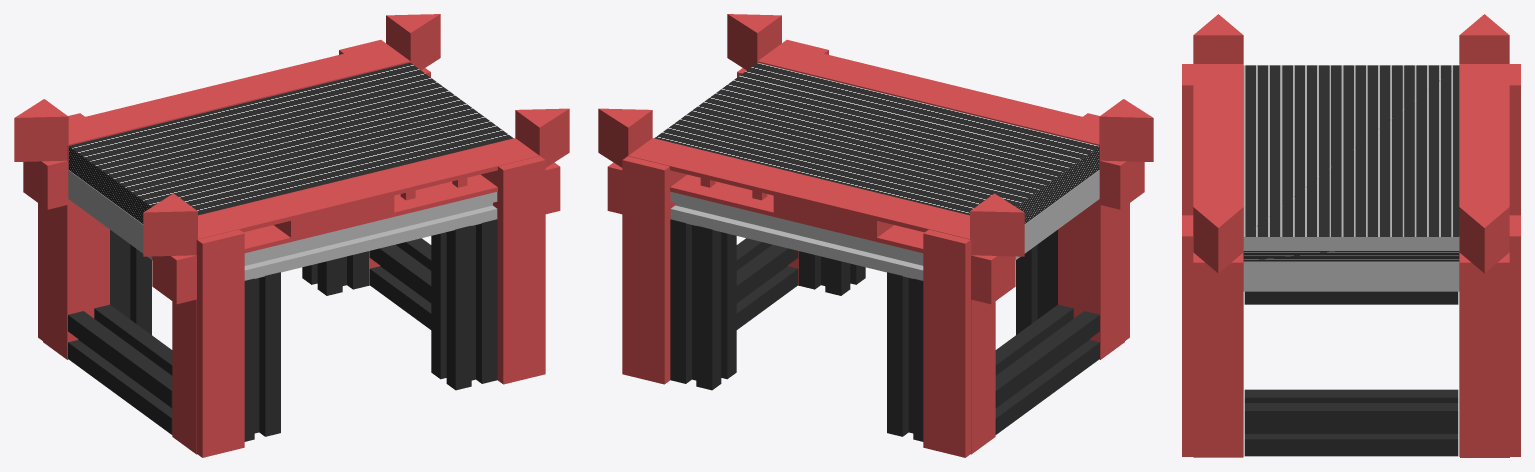
The model's file is Conveyor_Belt.glb.
3 renders of one model, left to right at view 1: azimuth 30°, elevation 25°; view 2: azimuth 150°, elevation 25°; view 3: azimuth 270°, elevation 25°, orthographic. The views are drawn at different scales.
Visible parts, largest first — view 1: Belt, Cube.013, Cube.014, Cube.015, Cube.021, Cube.002, Cube.001, Cube.023, Cube.016, Cube.011, Cube.022, Cube.007 (+12 smaller); view 2: Belt, Cube.012, Cube.011, Cube.018, Cube.021, Cube.001, Cube.002, Cube.023, Cube.017, Cube.014, Cube.022, Cube.008 (+12 smaller); view 3: Belt, Cube.022, Cube.009, Cube.010, Cube.002, Cube.001, Cube.021, Cube.013, Cube.023, Cube.012, Triangle, Triangle.001 (+6 smaller).
Part boxes in pixels (x1,y1,x2,y2): Belt: (68,62,513,223); Cube.013: (481,156,545,384); Cube.014: (196,229,244,457); Cube.015: (431,219,497,390); Cube.021: (68,170,497,280); Cube.002: (196,138,539,243); Cube.001: (67,43,410,148); Cube.023: (68,304,172,434); Cube.016: (244,272,280,441); Cube.011: (38,113,109,342); Cube.022: (369,238,431,329); Cube.007: (43,160,67,359); Belt: (654,62,1099,223); Cube.012: (622,156,686,384); Cube.011: (923,229,971,457); Cube.018: (670,219,736,390); Cube.021: (670,170,1099,280); Cube.001: (628,138,971,243); Cube.002: (757,43,1100,148); Cube.023: (995,304,1099,434); Cube.017: (887,272,923,441); Cube.014: (1058,113,1129,342); Cube.022: (736,238,798,329); Cube.008: (1100,160,1124,359); Belt: (1243,65,1459,261); Cube.022: (1244,389,1458,456); Cube.009: (1193,252,1243,457); Cube.010: (1460,252,1509,457); Cube.002: (1193,64,1243,240); Cube.001: (1459,64,1509,240); Cube.021: (1243,261,1459,291); Cube.013: (1182,215,1243,456); Cube.023: (1244,291,1458,304); Cube.012: (1459,215,1520,456); Triangle: (1459,207,1509,273); Triangle.001: (1193,207,1243,273).
Bounding box in the file's own units: 4.48 × 2.44 × 2.99.
Materials: 4 (1 with a texture image).
